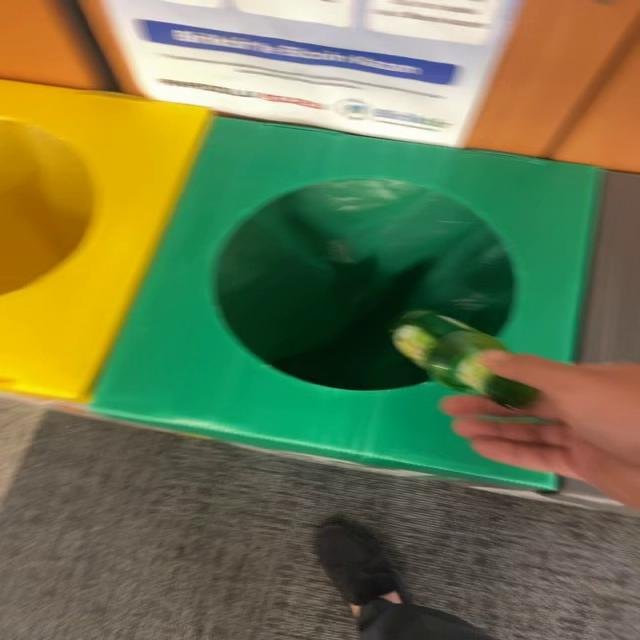glass: (392, 311, 539, 408)
